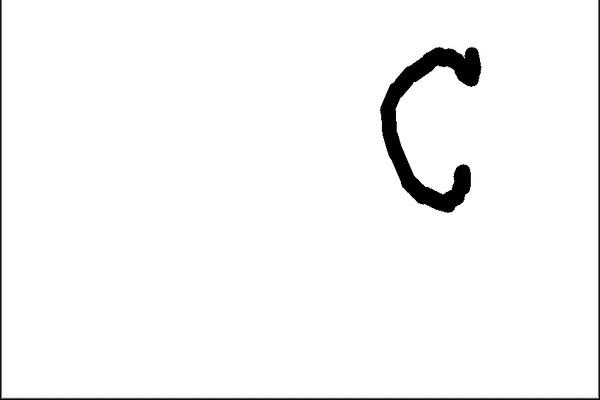C: (371, 40, 496, 215)
